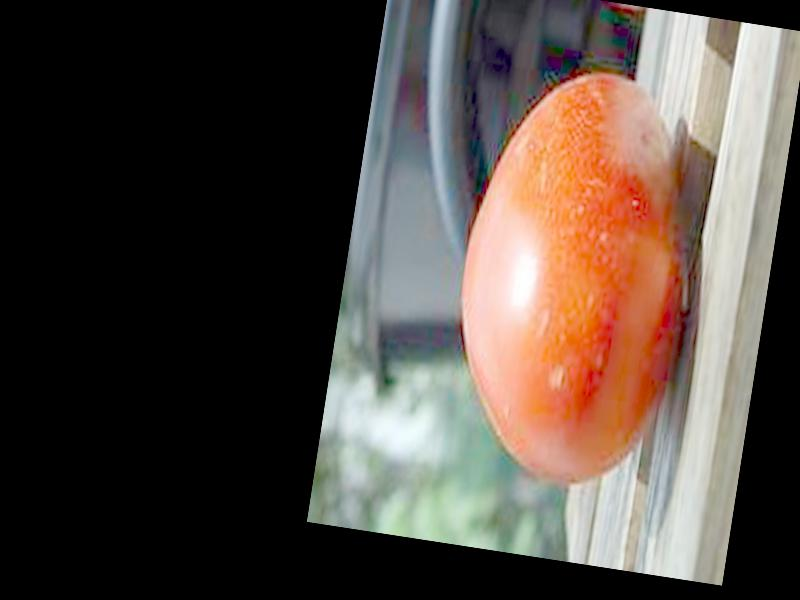Tomato: (433, 57, 711, 498)
